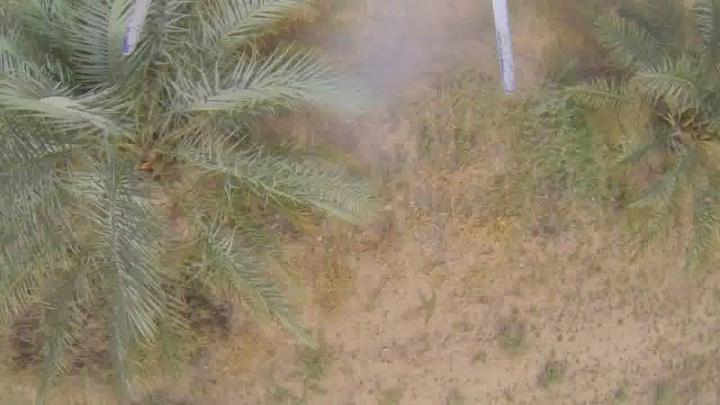Date-Palm-Crown: (0, 0, 306, 286), (636, 21, 720, 212)
